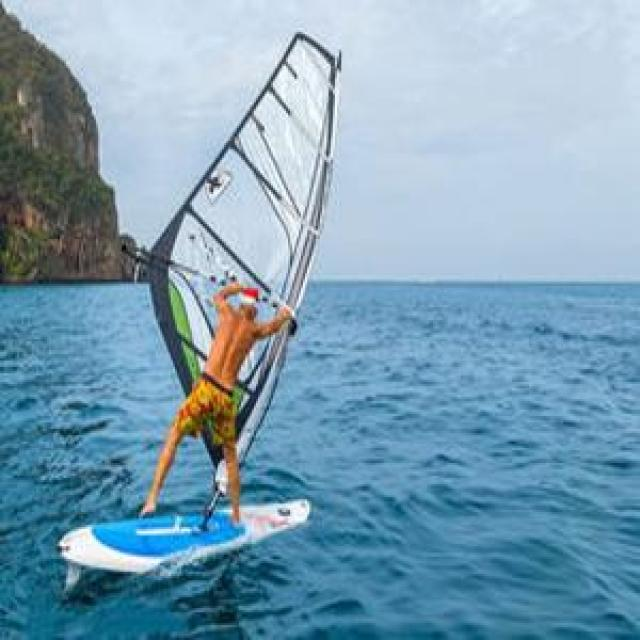sailboat: (55, 28, 341, 575)
